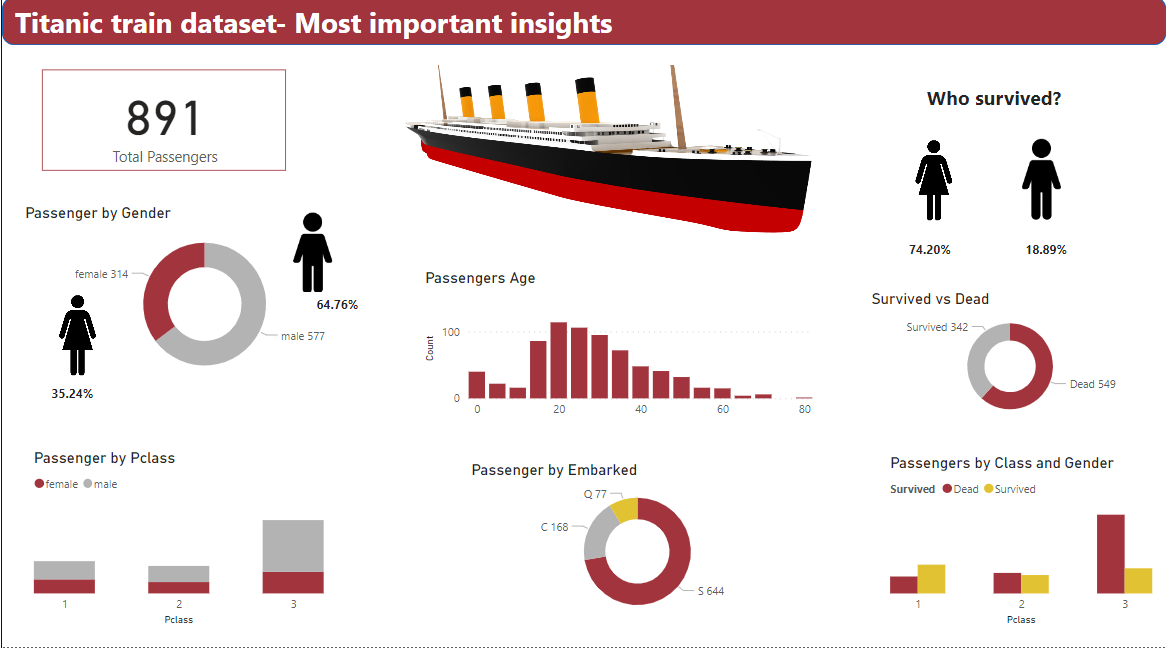

The page's visual inventory and layout, read from the dashboard file:
{"tool":"powerbi","page":{"name":"Page 1","canvas":[1280,720],"ordinal":0},"visuals":[{"type":"card","fields":{"Values":["CountNonNull(train - copia.Sex)"]},"box":[43.4,85.6,267.7,111],"z":0},{"type":"donutChart","title":"Passenger by Gender","fields":{"Category":["train - copia.Sex"],"Y":["CountNonNull(train - copia.Sex)"]},"box":[20.5,232.8,404,202.6],"z":0,"group":"g1"},{"type":"image","box":[29.5,329.6,104.9,97.7],"z":1000,"group":"g1"},{"type":"columnChart","title":"Passenger by Pclass","fields":{"Category":["train - copia.Pclass"],"Series":["train - copia.Sex"],"Y":["CountNonNull(train - copia.Sex)"]},"box":[30.2,501.3,328.2,199.1],"z":1000},{"type":"image","box":[436.7,74.2,458.7,195],"z":2000},{"type":"image","box":[289.8,238.1,103.7,98.9],"z":2000,"group":"g1"},{"type":"shape","box":[0,4.8,1279.6,53.1],"z":3000},{"type":"group","id":"g1","title":"Group 1","box":[20.5,232.8,404,202.6],"z":4000},{"type":"image","box":[1090.3,156.8,103.7,98.9],"z":5000},{"type":"image","box":[970.9,158,104.9,97.7],"z":6000},{"type":"textbox","box":[20.5,426.9,113.4,35],"z":7000},{"type":"textbox","box":[311.2,329.2,113.4,35],"z":8000},{"type":"textbox","box":[997.4,96.5,185.7,44.6],"z":9000},{"type":"textbox","box":[962.4,268.9,113.4,35],"z":10000},{"type":"textbox","box":[1090.3,268.9,113.4,35],"z":11000},{"type":"donutChart","title":"Passenger by Embarked","fields":{"Category":["train - copia.Embarked"],"Y":["CountNonNull(train - copia.Sex)"]},"box":[510.9,515,374.9,179.9],"z":12000},{"type":"clusteredColumnChart","title":"Passengers by Class and Gender","fields":{"Series":["train - copia.Survived"],"Category":["train - copia.Pclass"],"Y":["CountNonNull(train - copia.Sex)"]},"box":[970.9,506.5,297.9,194.2],"z":13000},{"type":"clusteredColumnChart","title":"Passengers Age","fields":{"Y":["CountNonNull(train - copia.Sex)"],"Category":["train - copia.Age (bins)"]},"box":[460.1,303.5,435.4,173],"z":14000},{"type":"donutChart","title":"Survived vs Dead","fields":{"Category":["train - copia.Survived"],"Y":["CountNonNull(train - copia.Survived)"]},"box":[950.4,326.8,314.8,149.5],"z":15000}]}

Visuals, with their boxes in screenshot pixels (x1, y1, x2, y2), scaled from the page's 1280x720 canvas onto the 1166x648 screenshot:
card - CountNonNull(train - copia.Sex): [x1=40, y1=77, x2=283, y2=177]
"Passenger by Gender" donutChart: [x1=19, y1=210, x2=387, y2=392]
image: [x1=27, y1=297, x2=122, y2=385]
"Passenger by Pclass" columnChart: [x1=28, y1=451, x2=326, y2=630]
image: [x1=398, y1=67, x2=816, y2=242]
image: [x1=264, y1=214, x2=358, y2=303]
shape: [x1=0, y1=4, x2=1165, y2=52]
"Group 1" group: [x1=19, y1=210, x2=387, y2=392]
image: [x1=993, y1=141, x2=1088, y2=230]
image: [x1=884, y1=142, x2=980, y2=230]
textbox: [x1=19, y1=384, x2=122, y2=416]
textbox: [x1=283, y1=296, x2=387, y2=328]
textbox: [x1=909, y1=87, x2=1078, y2=127]
textbox: [x1=877, y1=242, x2=980, y2=274]
textbox: [x1=993, y1=242, x2=1096, y2=274]
"Passenger by Embarked" donutChart: [x1=465, y1=464, x2=807, y2=625]
"Passengers by Class and Gender" clusteredColumnChart: [x1=884, y1=456, x2=1156, y2=631]
"Passengers Age" clusteredColumnChart: [x1=419, y1=273, x2=816, y2=429]
"Survived vs Dead" donutChart: [x1=866, y1=294, x2=1153, y2=429]
